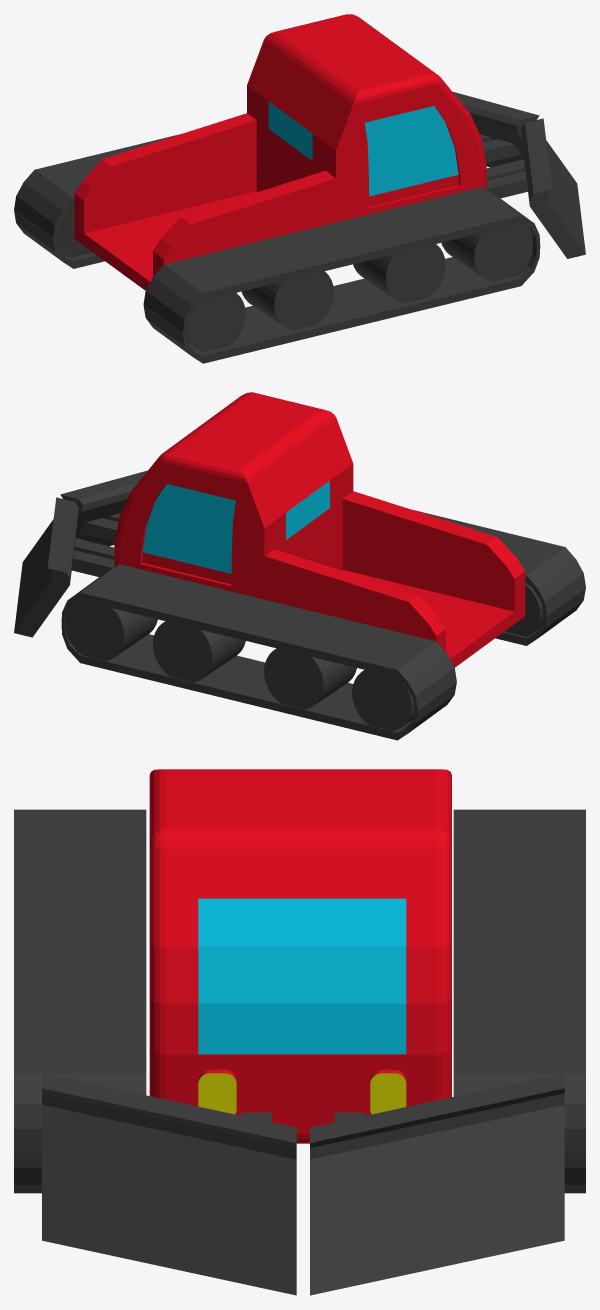
Rendered from ChasseNeige.fbx.
The picture shows the model from 3 angles, top to bottom: view 1: azimuth 30°, elevation 25°; view 2: azimuth 150°, elevation 25°; view 3: azimuth 270°, elevation 25°; orthographic projection. The views are drawn at different scales.
Parts seen in each view (by area): view 1: Cube, chaine, Cube.001, Cylinder, Cylinder.001; view 2: Cube, chaine, Cube.001, Cylinder, Cylinder.001; view 3: Cube, Cube.001, chaine.
Boxes of the visible parts, bbox=[...] form: Cube: bbox=[74, 14, 486, 290]; chaine: bbox=[14, 134, 540, 363]; Cube.001: bbox=[452, 91, 585, 258]; Cylinder: bbox=[56, 206, 532, 352]; Cylinder.001: bbox=[241, 244, 445, 330]; Cube: bbox=[114, 392, 525, 667]; chaine: bbox=[61, 509, 585, 740]; Cube.001: bbox=[14, 470, 147, 637]; Cylinder: bbox=[65, 583, 543, 731]; Cylinder.001: bbox=[153, 621, 356, 709]; Cube: bbox=[149, 769, 451, 1143]; Cube.001: bbox=[42, 1073, 564, 1295]; chaine: bbox=[14, 809, 585, 1193].
Bounding box in the file's own units: 1415 × 543 × 864.
